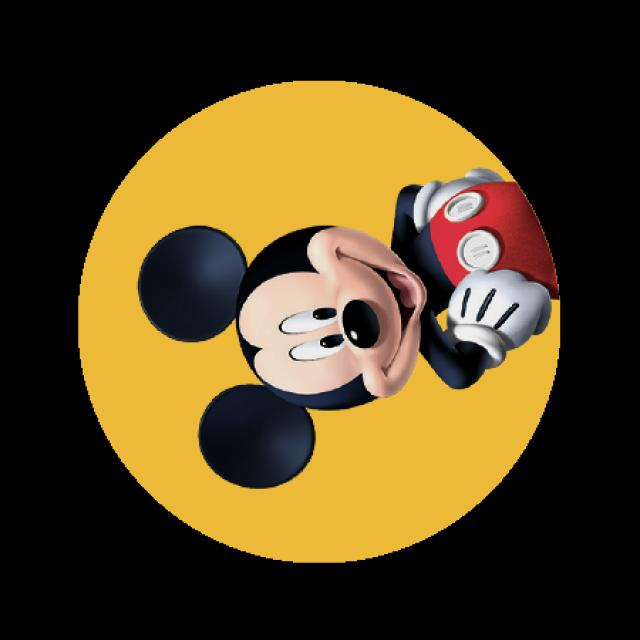mickey: (136, 166, 554, 493)
